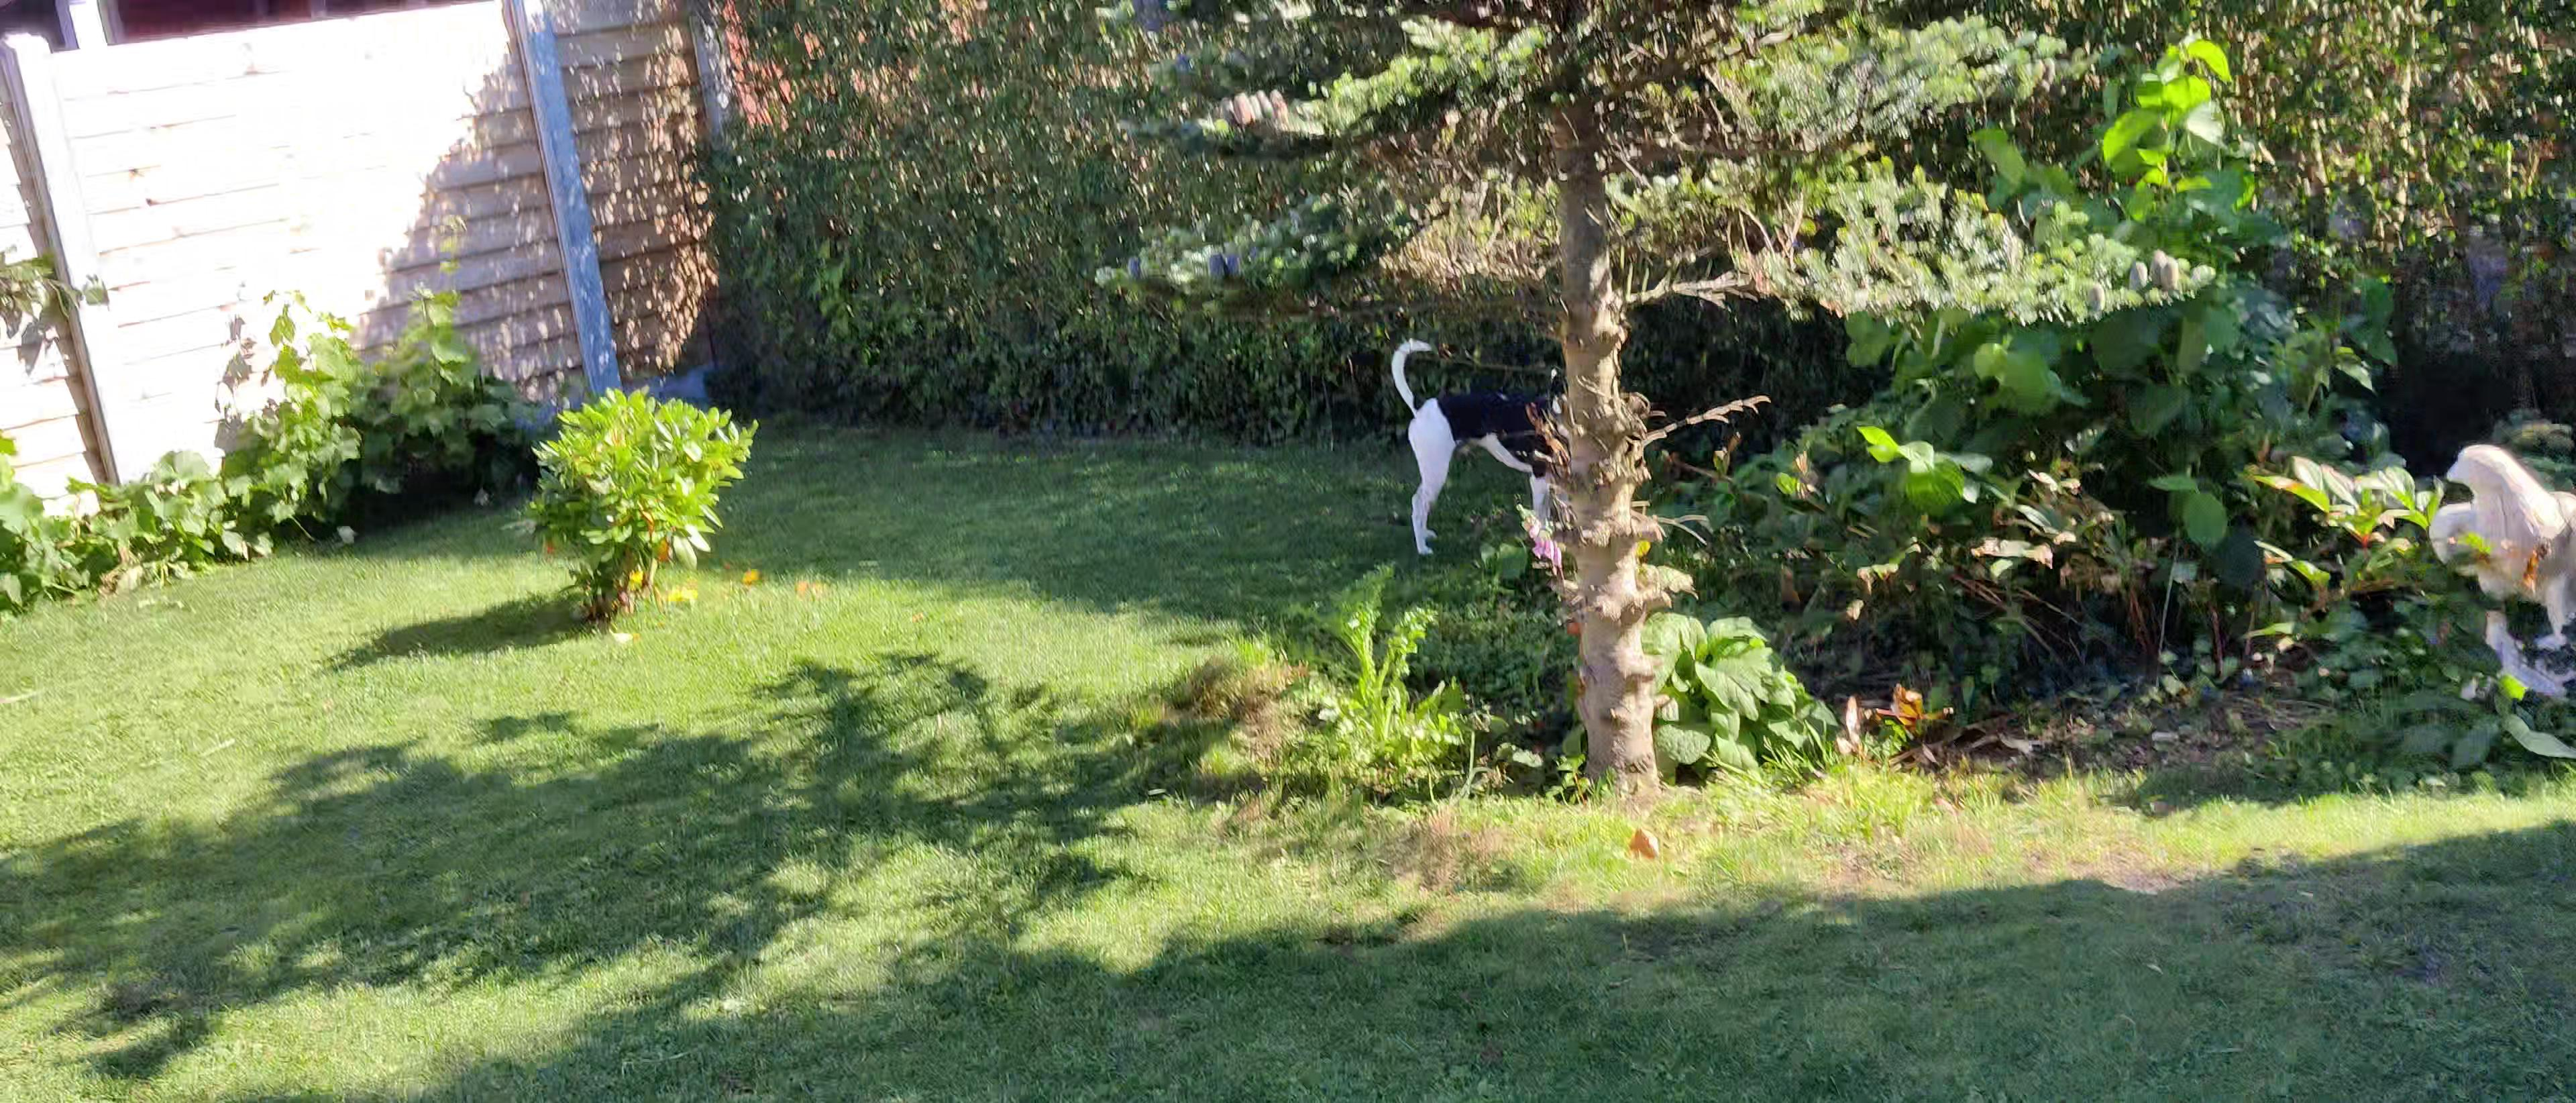Dog: (1387, 330, 1577, 562)
